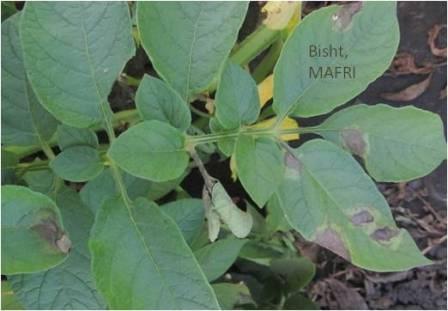Potato leaf late blight: (265, 134, 436, 268), (274, 1, 403, 122), (304, 102, 448, 182), (1, 186, 72, 275)
